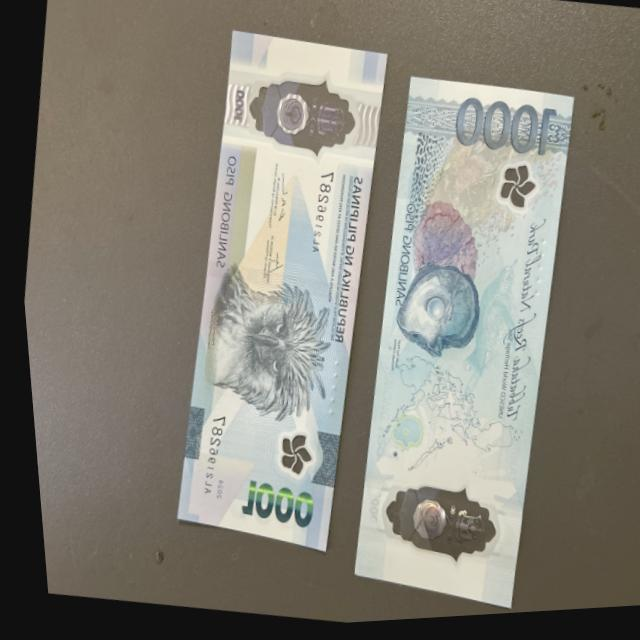clear_window: (358, 470, 505, 587), (223, 60, 373, 174)
eagle: (190, 259, 336, 429)
sampaguita: (260, 426, 308, 485), (490, 169, 540, 223)
serial_number: (297, 168, 338, 267), (183, 413, 224, 506)
value: (447, 86, 556, 169), (227, 475, 312, 542)
